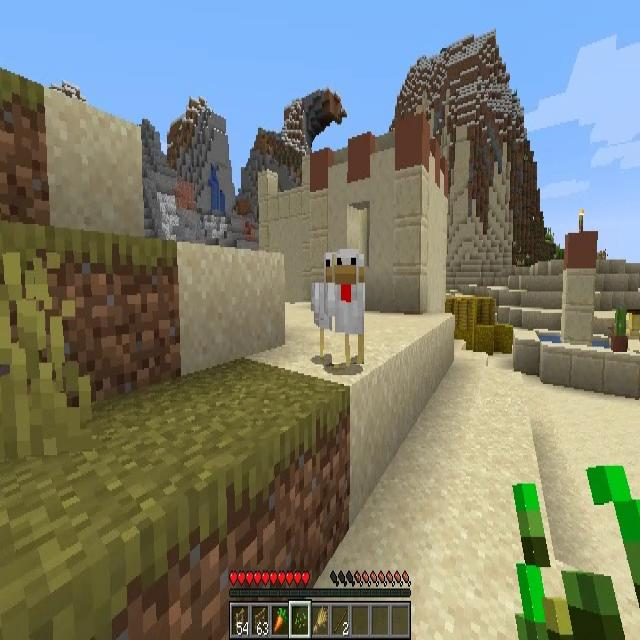duck: (332, 254, 364, 364), (313, 250, 338, 362)
